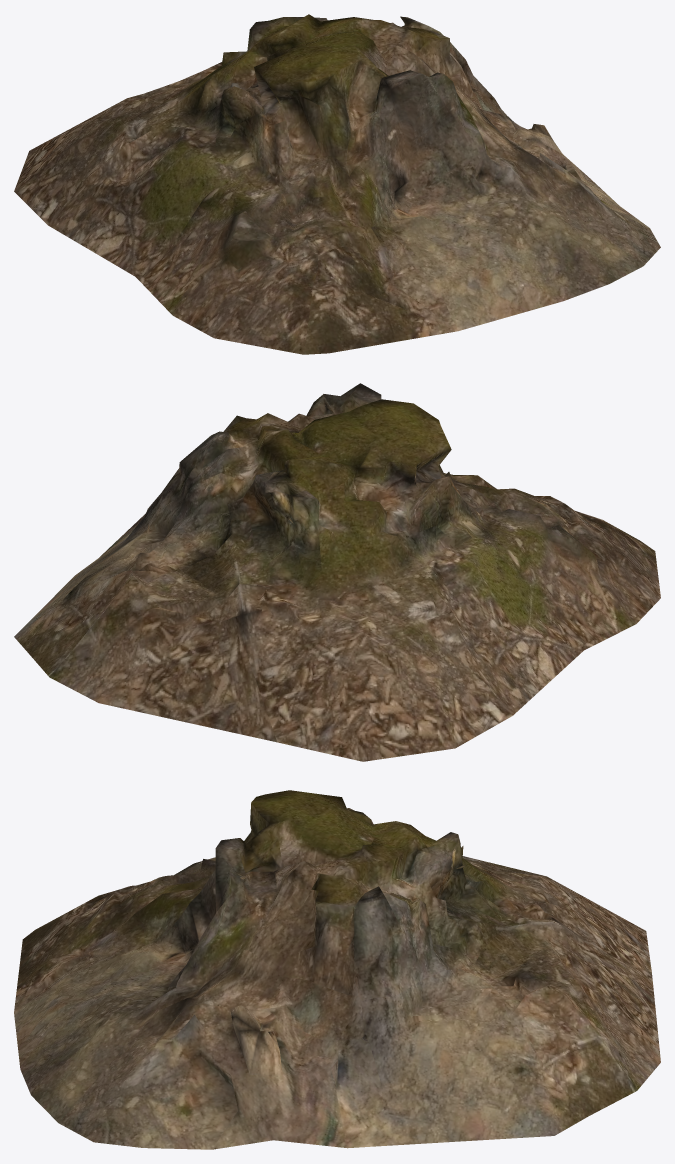
Rendered from tree_stump_01.glb.
3 views of the same model, one above another, from view 1: azimuth 30°, elevation 25°; view 2: azimuth 150°, elevation 25°; view 3: azimuth 270°, elevation 25° (orthographic). The views are drawn at different scales.
Visible parts, largest first — view 1: tree_stump_01; view 2: tree_stump_01; view 3: tree_stump_01.
Part boxes in pixels (x1,y1,x2,y2): tree_stump_01: (14, 14, 660, 354); tree_stump_01: (14, 383, 660, 761); tree_stump_01: (14, 790, 660, 1149).
Size of the model in its own units: 1.43 by 0.5689 by 1.59.
1 material, 1 textured.
